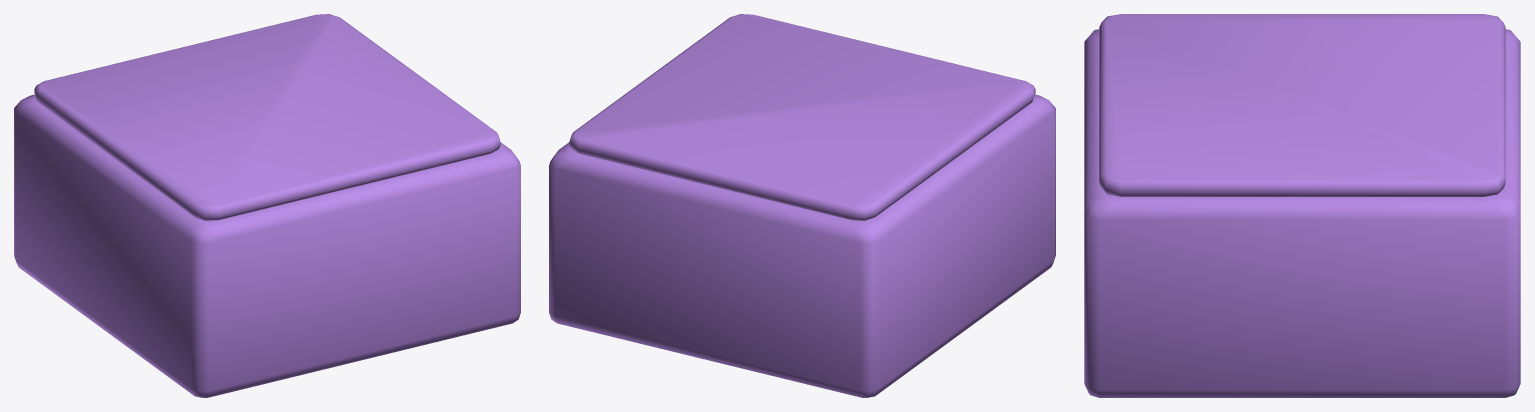
The model's file is Block-O-Purple.fbx.
3 renders of one model, left to right at view 1: azimuth 30°, elevation 25°; view 2: azimuth 150°, elevation 25°; view 3: azimuth 270°, elevation 25°, orthographic. The views are drawn at different scales.
Parts seen in each view (by area): view 1: Block-O-Purple, Cube.045; view 2: Block-O-Purple, Cube.045; view 3: Block-O-Purple, Cube.045.
Part boxes in pixels (x1,y1,x2,y2): Block-O-Purple: (14,94,520,397); Cube.045: (34,14,500,220); Block-O-Purple: (549,94,1055,397); Cube.045: (569,14,1035,220); Block-O-Purple: (1084,29,1520,397); Cube.045: (1099,14,1505,196).
Bounding box in the file's own units: 100 × 54.24 × 100.
